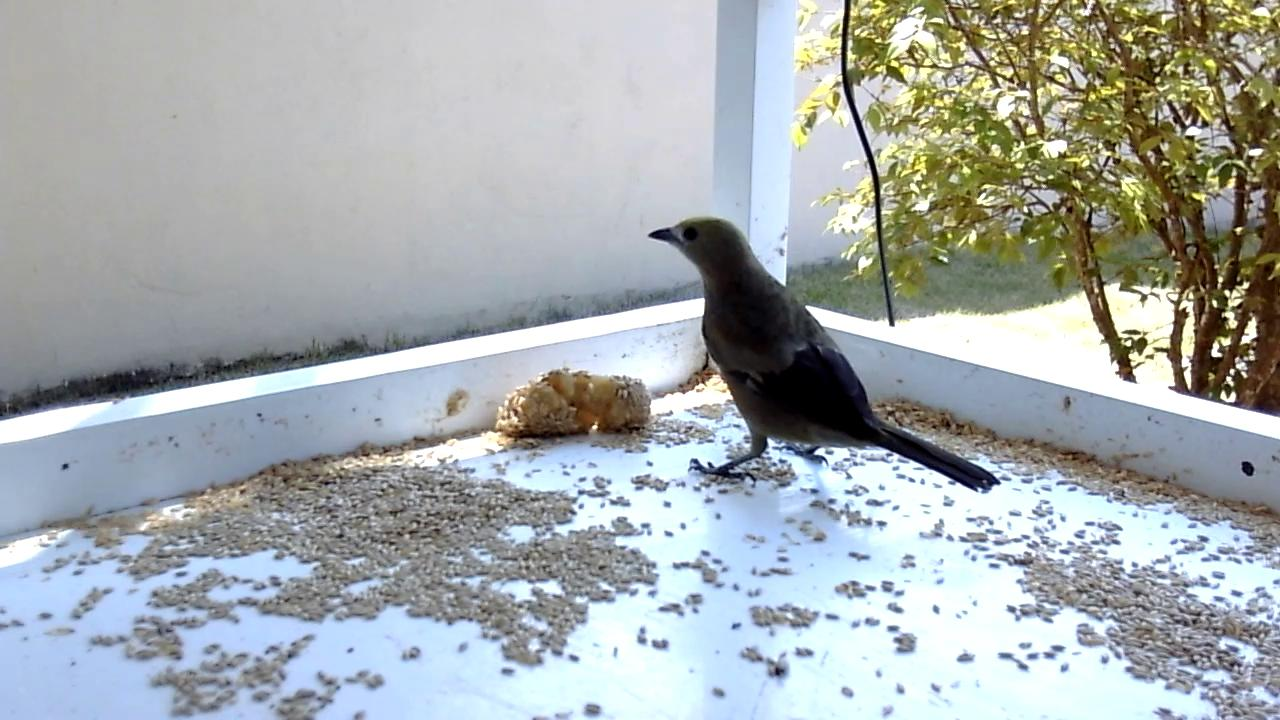sanhaco_do_coqueiro: (646, 214, 1005, 496)
